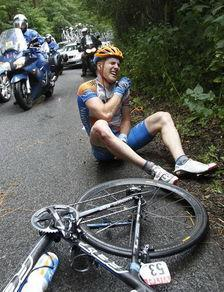Fall-Detected: (72, 38, 221, 190)
